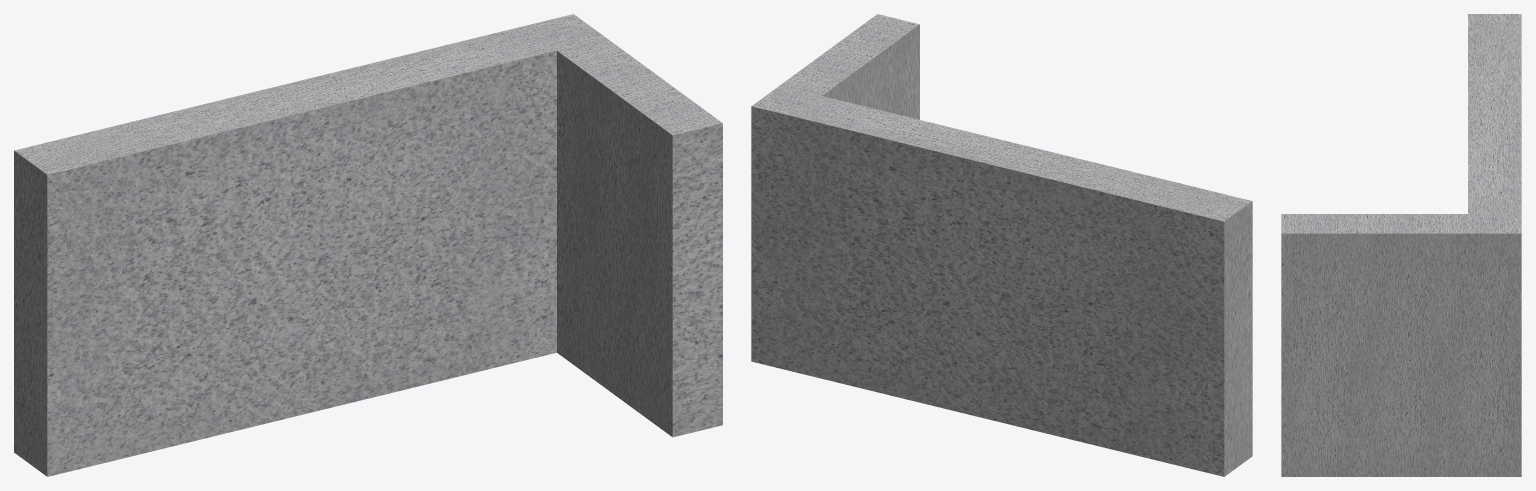
The model's file is SM_W_Foundation_3.fbx.
The picture shows the model from 3 angles, left to right: view 1: azimuth 30°, elevation 25°; view 2: azimuth 150°, elevation 25°; view 3: azimuth 270°, elevation 25°; orthographic projection. The views are drawn at different scales.
Visible parts, largest first — view 1: SM_W_Foundation_3; view 2: SM_W_Foundation_3; view 3: SM_W_Foundation_3.
Part boxes in pixels (x1,y1,x2,y2): SM_W_Foundation_3: (14, 14, 722, 476); SM_W_Foundation_3: (751, 14, 1252, 476); SM_W_Foundation_3: (1281, 14, 1521, 476).
Size of the model in its own units: 98.88 by 45.65 by 51.01.
1 material, 1 textured.
